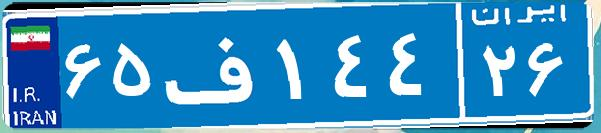1: (273, 28, 330, 110)
2: (475, 38, 525, 113)
4: (385, 28, 445, 110), (330, 28, 385, 110)
5: (110, 28, 158, 105)
6: (57, 26, 110, 107), (525, 38, 570, 115)
ف: (158, 15, 273, 115)
